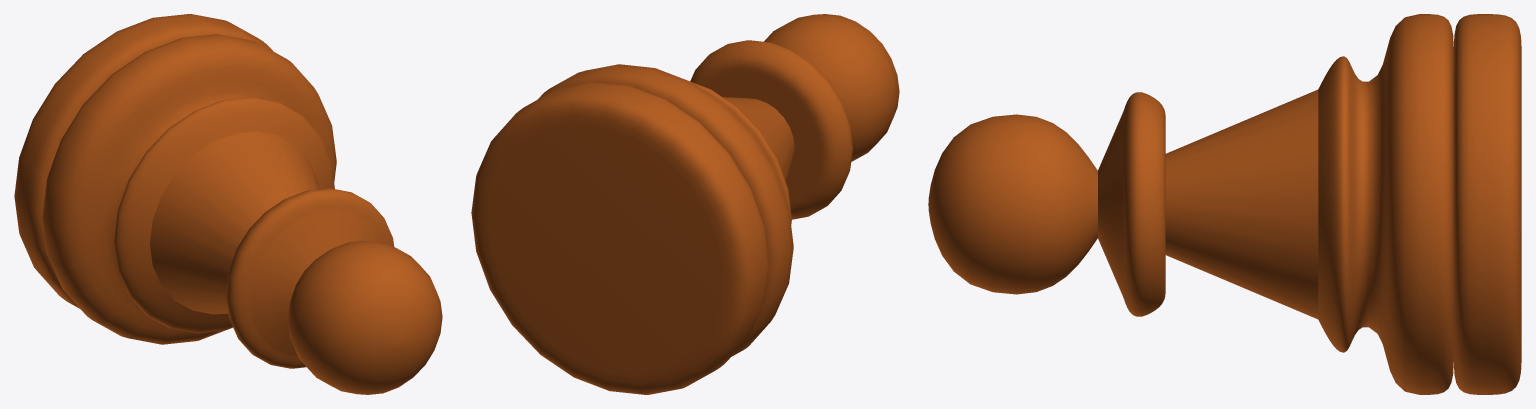
Rendered from pawn.obj.
3 renders of one model, left to right at view 1: azimuth 30°, elevation 25°; view 2: azimuth 150°, elevation 25°; view 3: azimuth 270°, elevation 25°, orthographic. The views are drawn at different scales.
Visible parts, largest first — view 1: peshka08; view 2: peshka08; view 3: peshka08.
Part boxes in pixels (x1,y1,x2,y2): peshka08: (14,14,442,394); peshka08: (471,14,899,394); peshka08: (928,14,1521,394).
Bounding box in the file's own units: 28.92 × 28.92 × 44.86.
